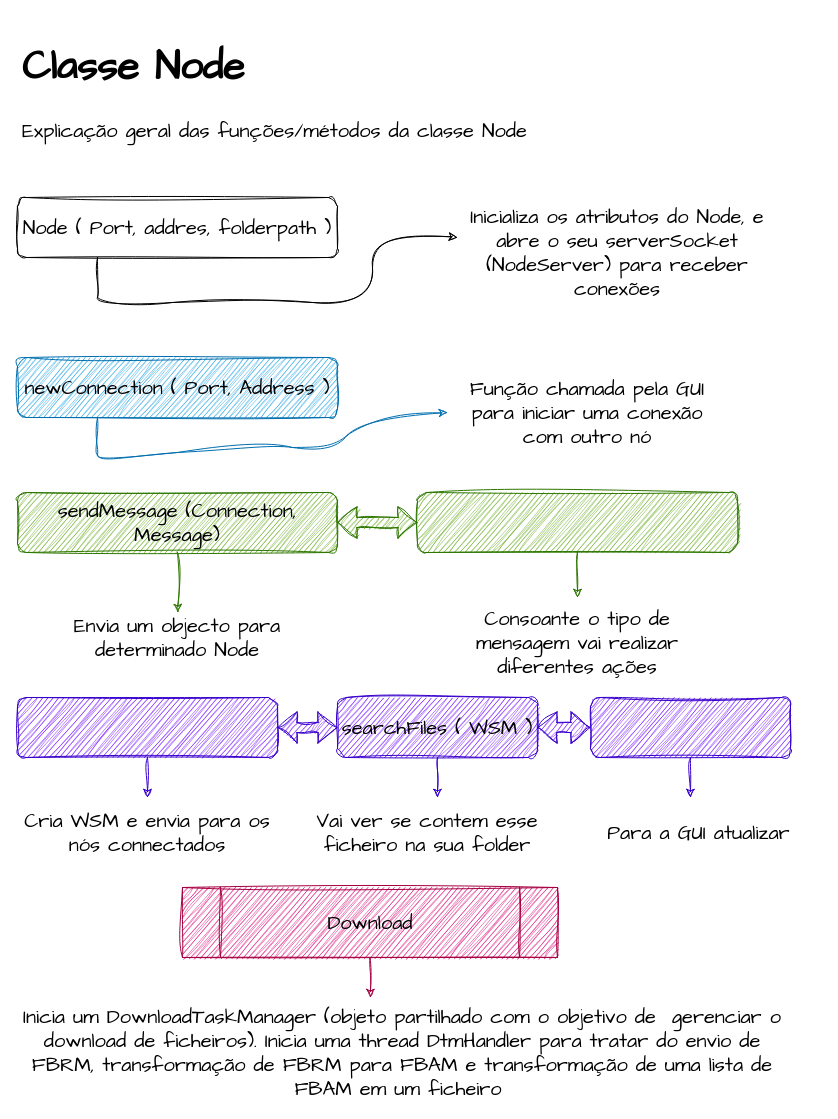
Some shapes in this 838 by 1119 pixel diagram are drawn without their labels. Here are the shapes that lost their labels. From the top down, the box of each, then its label:
(416, 492, 738, 552): HandleMessage ( Socket, Message)
(16, 696, 278, 758): startSearch ( Keyword )
(590, 696, 790, 758): updateFSR( FSR )
